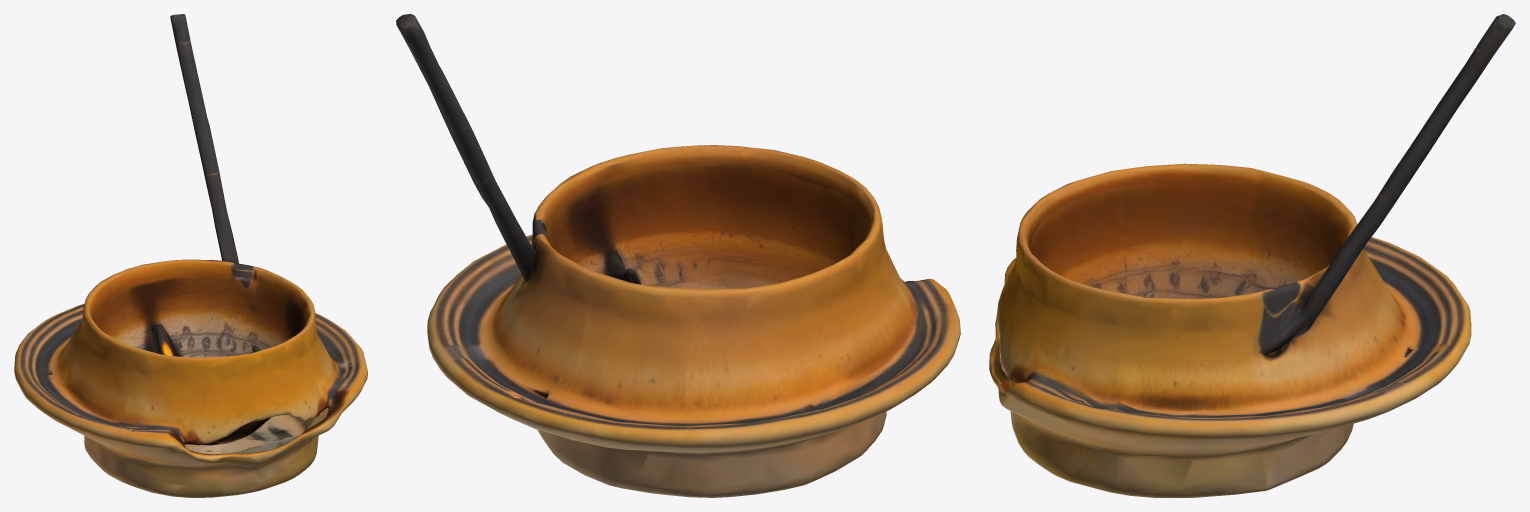
Rendered from incense.glb.
3 renders of one model, left to right at view 1: azimuth 30°, elevation 25°; view 2: azimuth 150°, elevation 25°; view 3: azimuth 270°, elevation 25°, orthographic. The views are drawn at different scales.
Bounding box in the file's own units: 1.91 × 2 × 1.99.
Materials: 1 (1 with a texture image).
